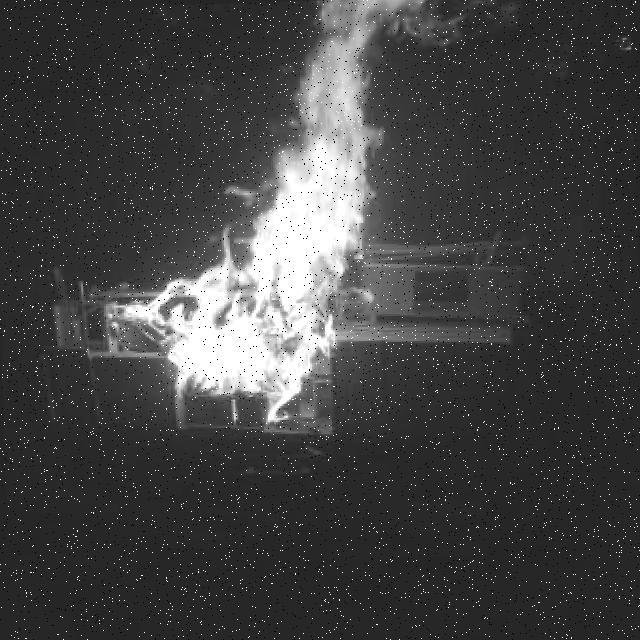Fire: (110, 0, 402, 427)
